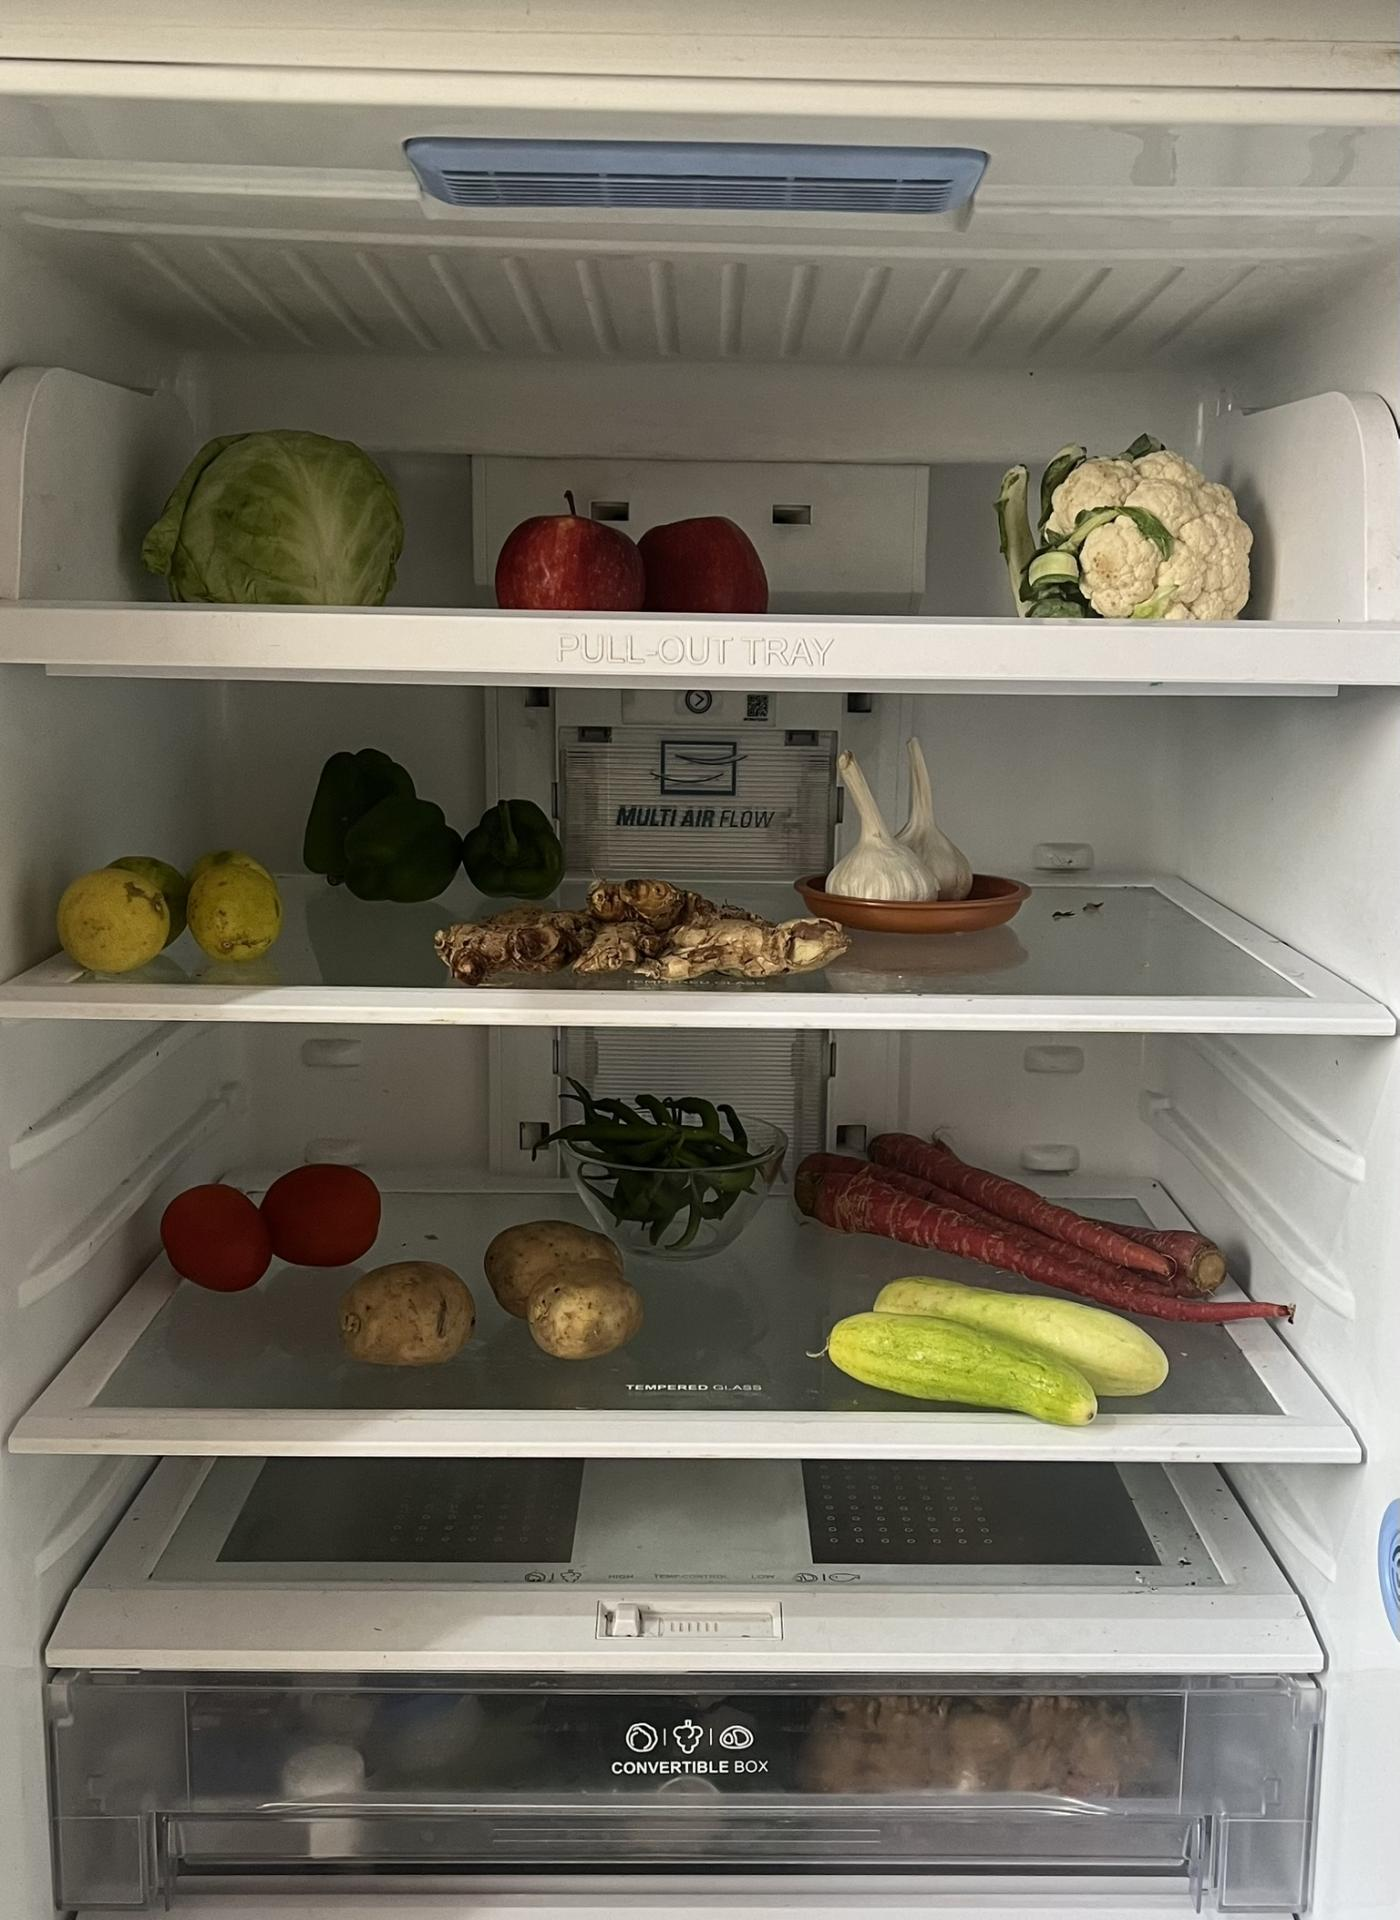apple: (495, 502, 778, 613)
cabbage: (146, 420, 404, 602)
capsicum: (304, 748, 570, 906)
carrots: (798, 1128, 1275, 1315), (827, 1280, 1173, 1418)
cauliflower: (997, 444, 1276, 622)
chillies: (534, 1069, 765, 1243)
garlic: (830, 730, 966, 903)
ginger: (434, 875, 847, 979)
lemon: (64, 850, 286, 966)
potato: (356, 1222, 644, 1364)
tomato: (160, 1163, 385, 1288)
